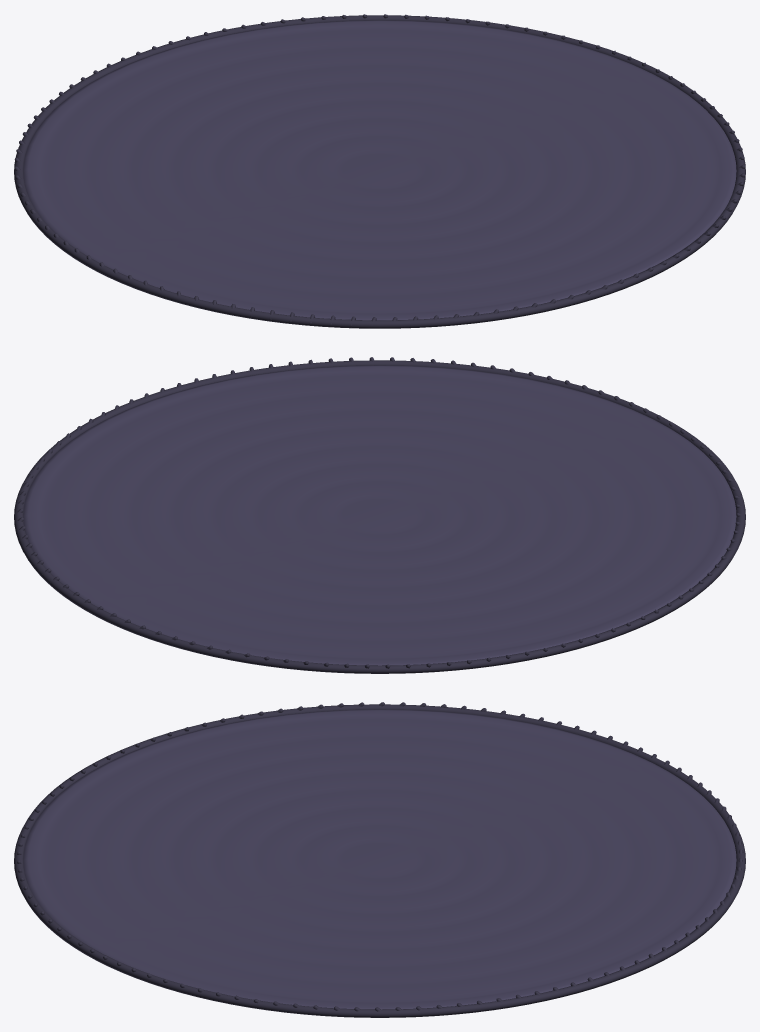
File: tapis.glb
3 views of the same model, one above another, from view 1: azimuth 30°, elevation 25°; view 2: azimuth 150°, elevation 25°; view 3: azimuth 270°, elevation 25° (orthographic).
Visible parts, largest first — view 1: tapis; view 2: tapis; view 3: tapis.
Part boxes in pixels (left/top/right/bottom): tapis: left=14, top=14, right=745, bottom=328; tapis: left=14, top=357, right=745, bottom=673; tapis: left=14, top=702, right=745, bottom=1017.
Size of the model in its own units: 1.39 by 0.0209 by 1.39.
